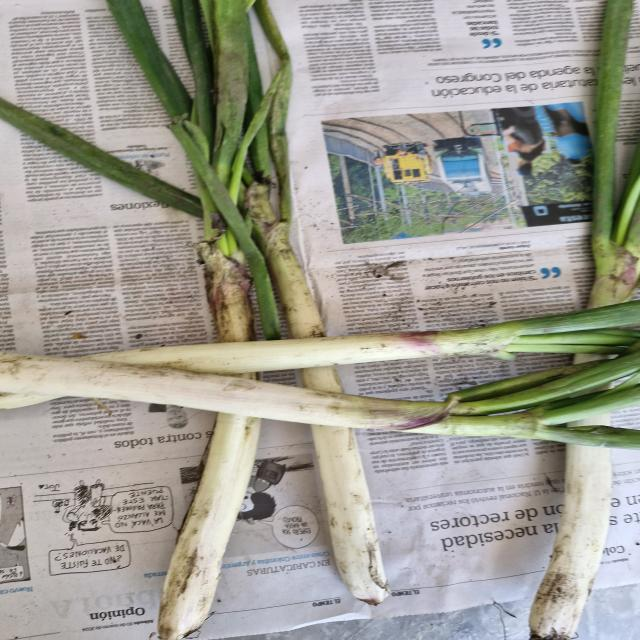green_onion: (490, 0, 639, 633), (156, 0, 276, 622), (441, 315, 640, 639), (0, 344, 511, 434), (127, 316, 627, 380)
